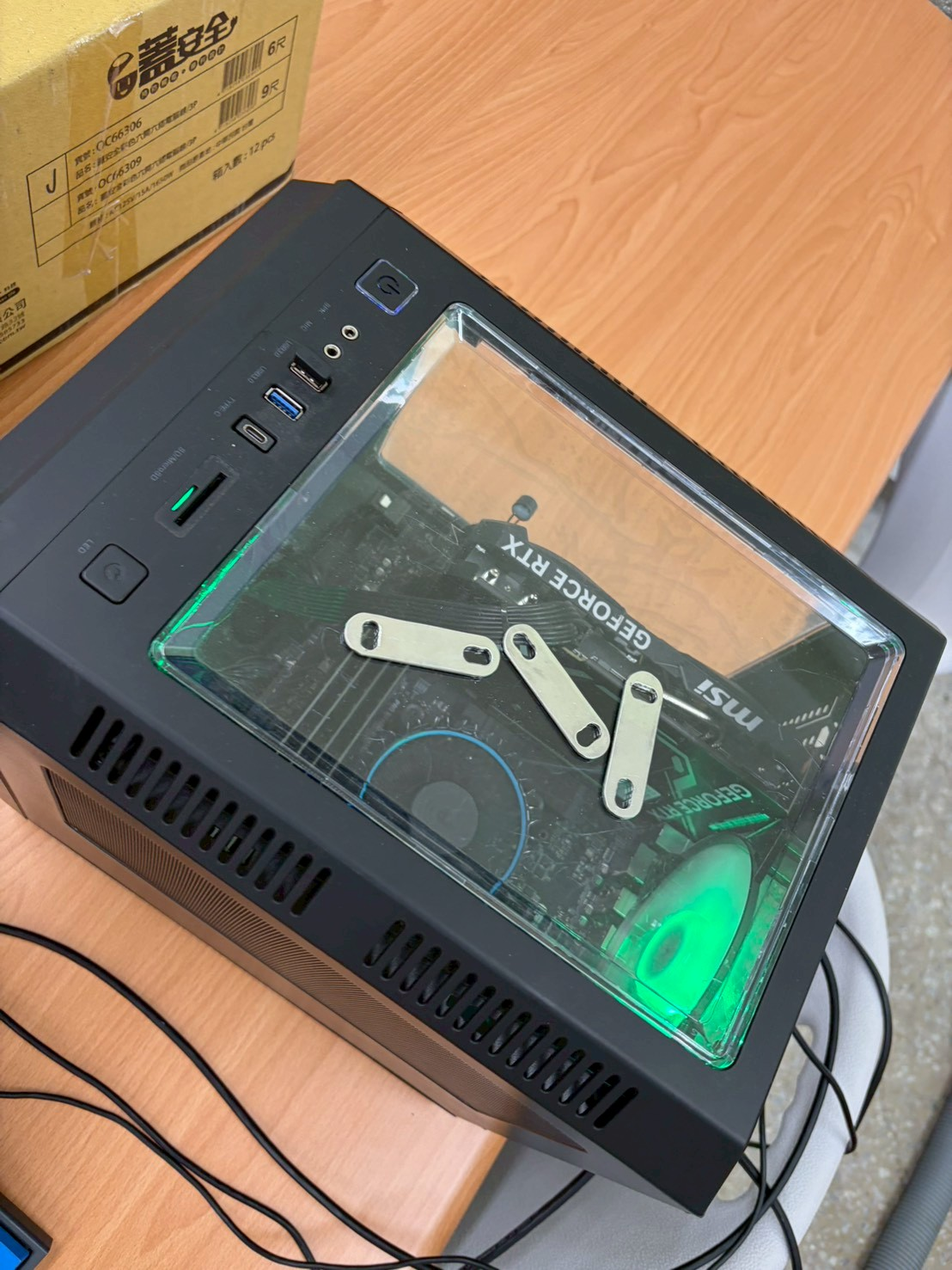Fe: (348, 610, 509, 655), (675, 674, 835, 719), (527, 615, 688, 659)
